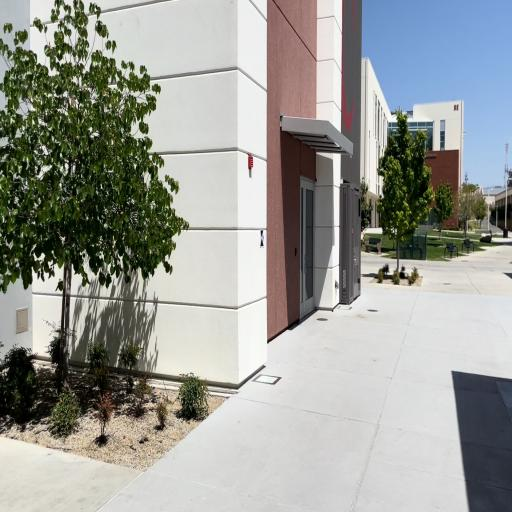target9: (260, 230, 264, 247)
